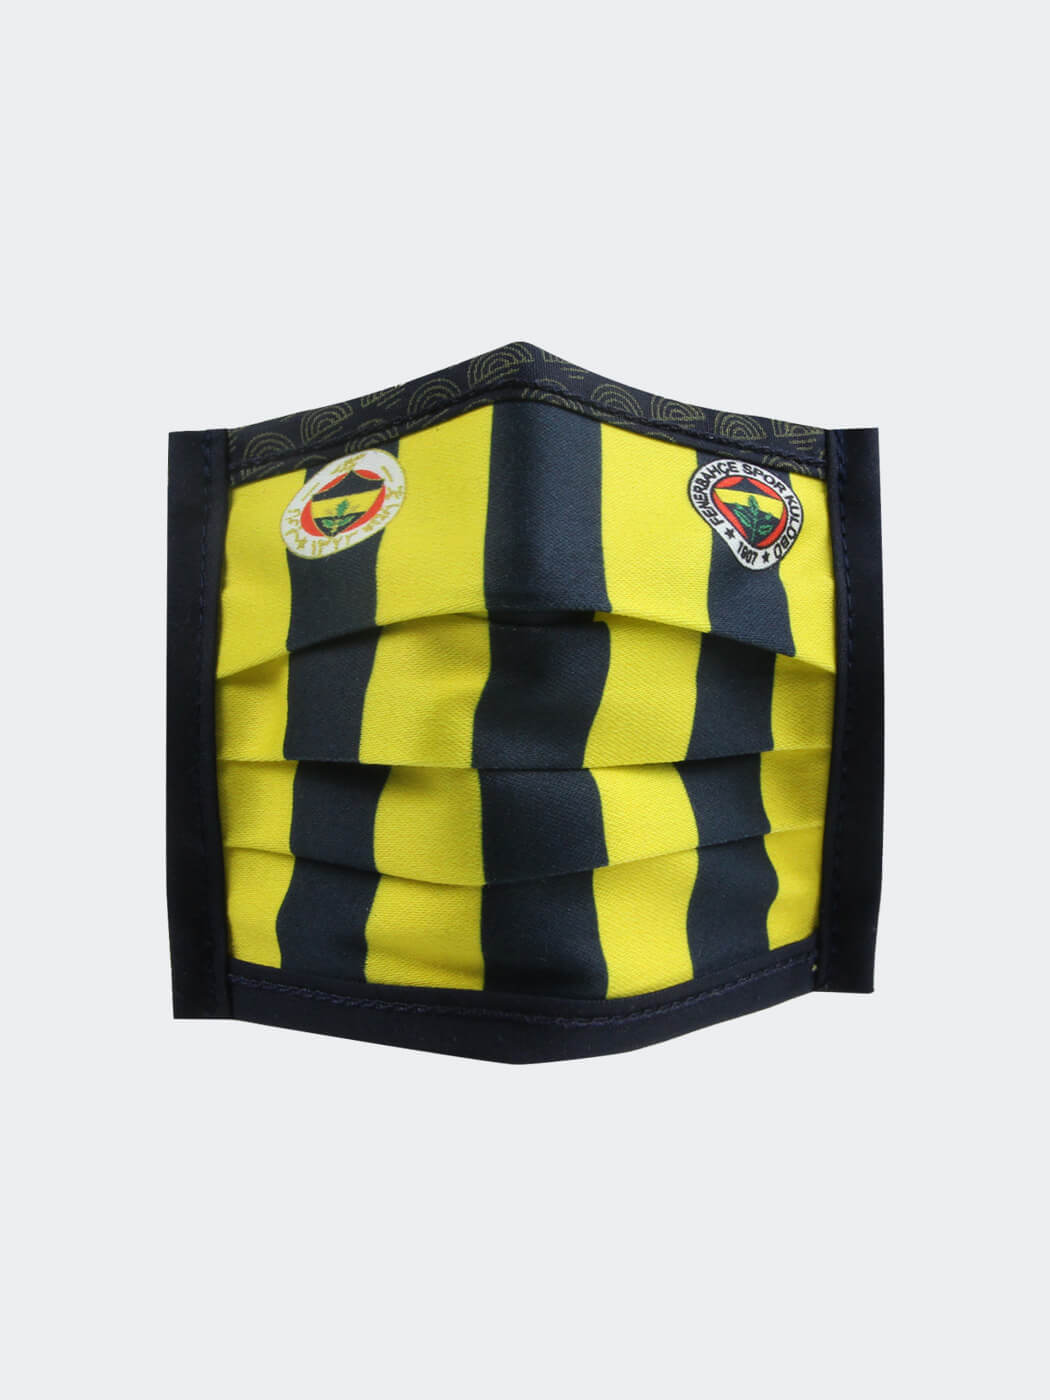maske: (120, 389, 908, 1025)
